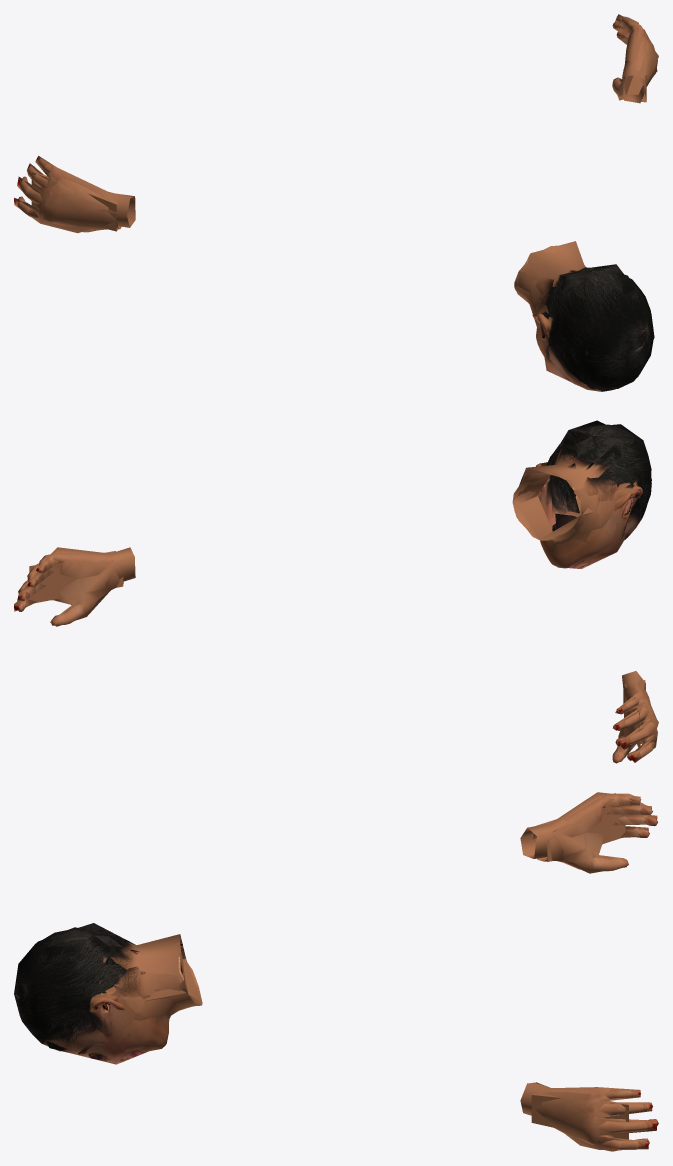
The model's file is head_002_r.obj.
The picture shows the model from 3 angles, top to bottom: view 1: azimuth 30°, elevation 25°; view 2: azimuth 150°, elevation 25°; view 3: azimuth 270°, elevation 25°; orthographic projection. The views are drawn at different scales.
Parts seen in each view (by area): view 1: head_002_r_med_1, head_002_r_high_1, head_002_r_low_1; view 2: head_002_r_high_1, head_002_r_med_1, head_002_r_low_1; view 3: head_002_r_high_1, head_002_r_med_1, head_002_r_low_1.
Part boxes in pixels (x1,y1,x2,y2): head_002_r_med_1: (14,14,657,390); head_002_r_high_1: (17,16,658,391); head_002_r_low_1: (31,22,654,387); head_002_r_high_1: (17,424,658,763); head_002_r_med_1: (14,424,657,762); head_002_r_low_1: (29,420,651,747); head_002_r_high_1: (25,793,658,1151); head_002_r_med_1: (14,792,657,1149); head_002_r_low_1: (36,806,628,1139).
Size of the model in its own units: 1.08 by 0.2114 by 0.9316.
